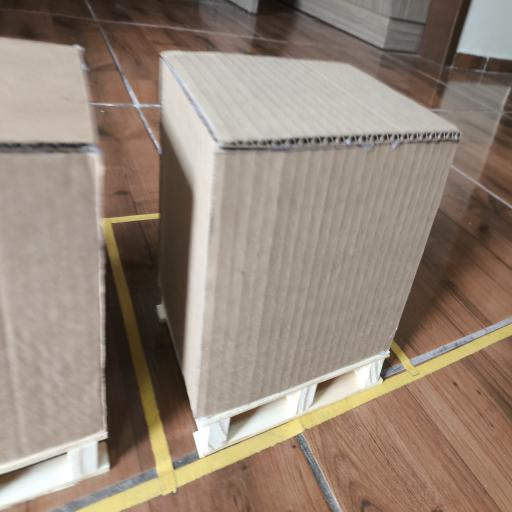pallet: (194, 351, 389, 457), (0, 442, 109, 510)
